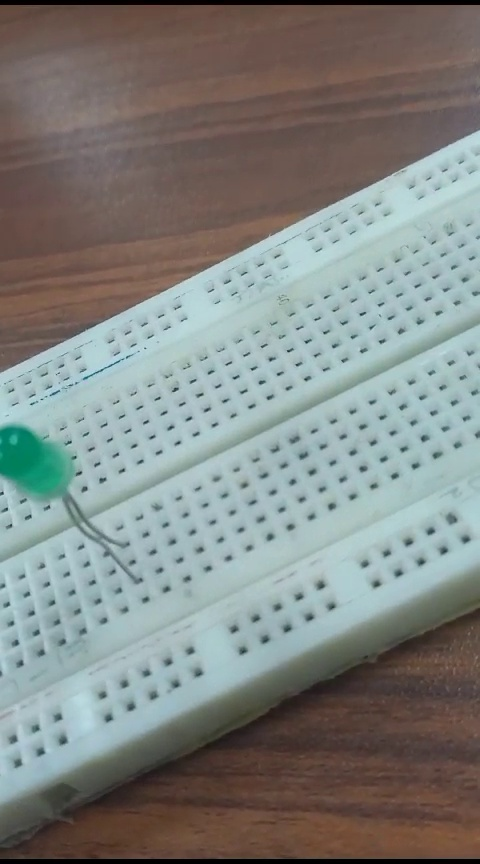LED: (2, 415, 143, 597)
